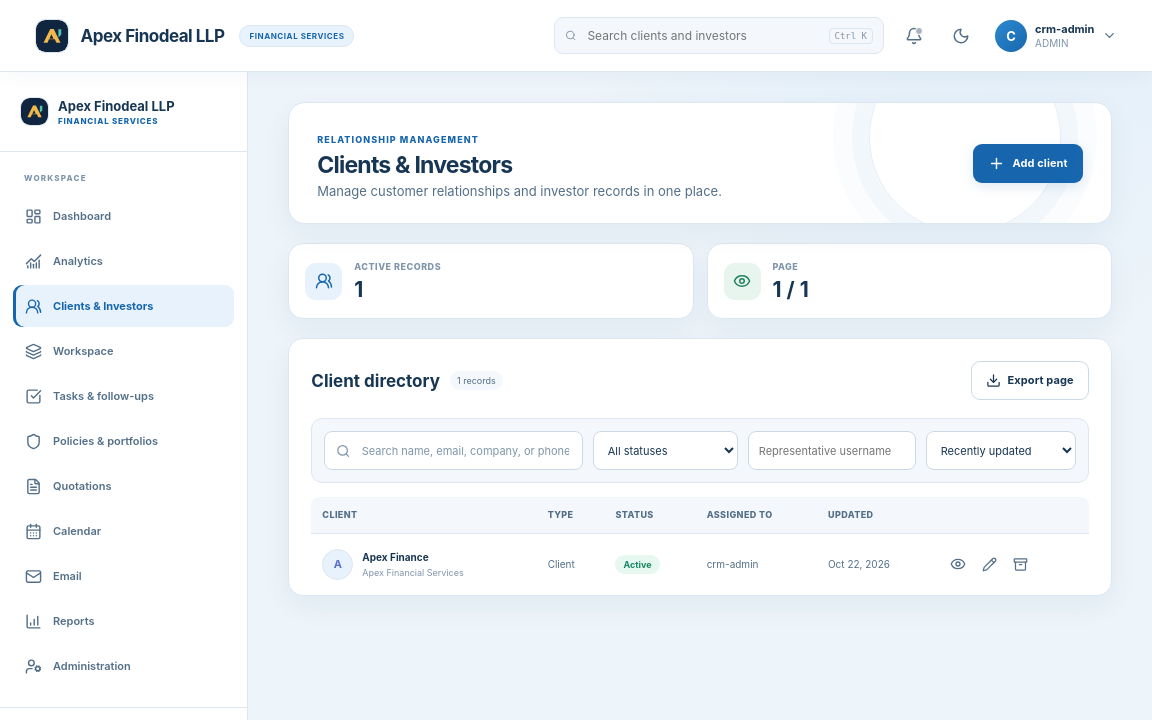
Test: creates a client from the clients page and refreshes the list
This screenshot has width=1152, height=720.
expect the text "Apex Finance" is shown: met, box [362, 551, 429, 563]
Click the button "Add client": (1028, 163) [973, 144, 1083, 182]
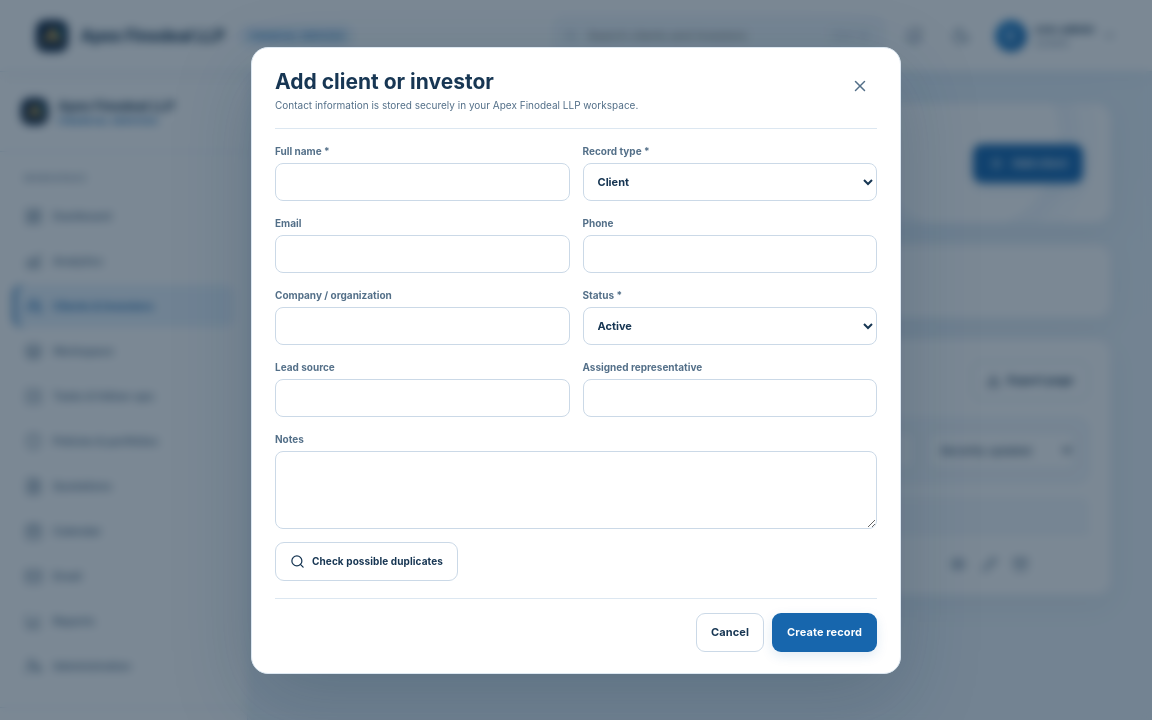
In the field labelled "Full name *": (422, 182) [275, 162, 570, 200], type "Northstar Investor"
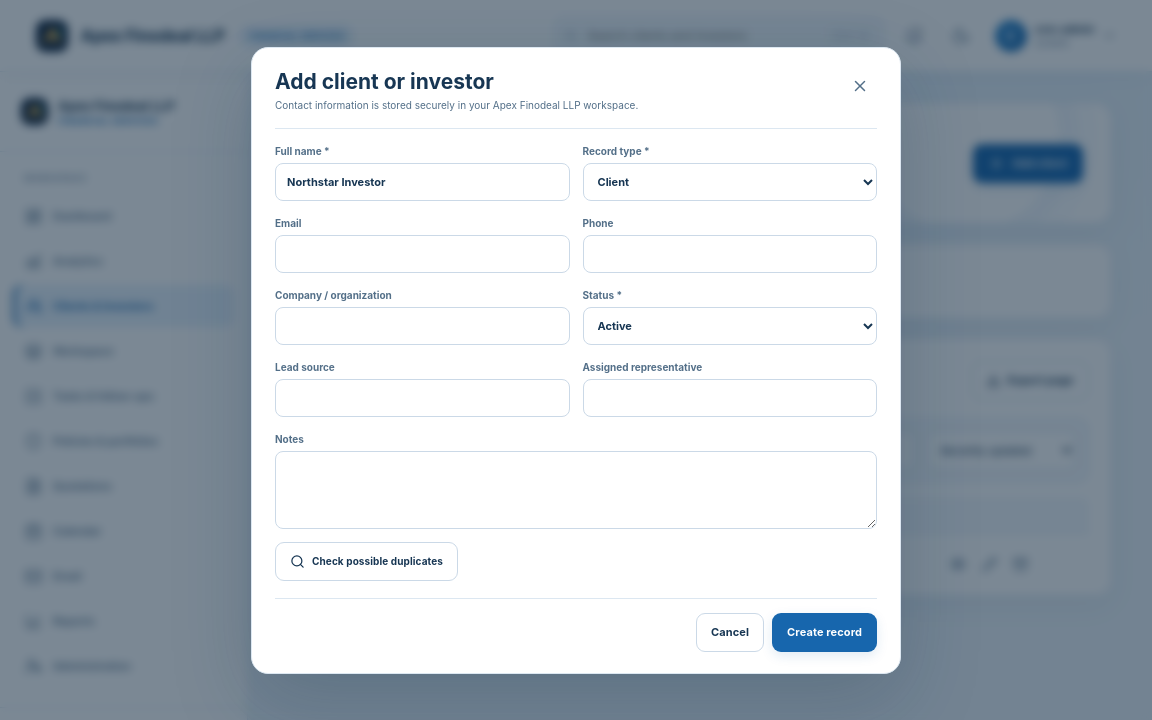
Select "Investor" in the dropdown labelled "Record type *": (730, 182) [582, 162, 877, 200]
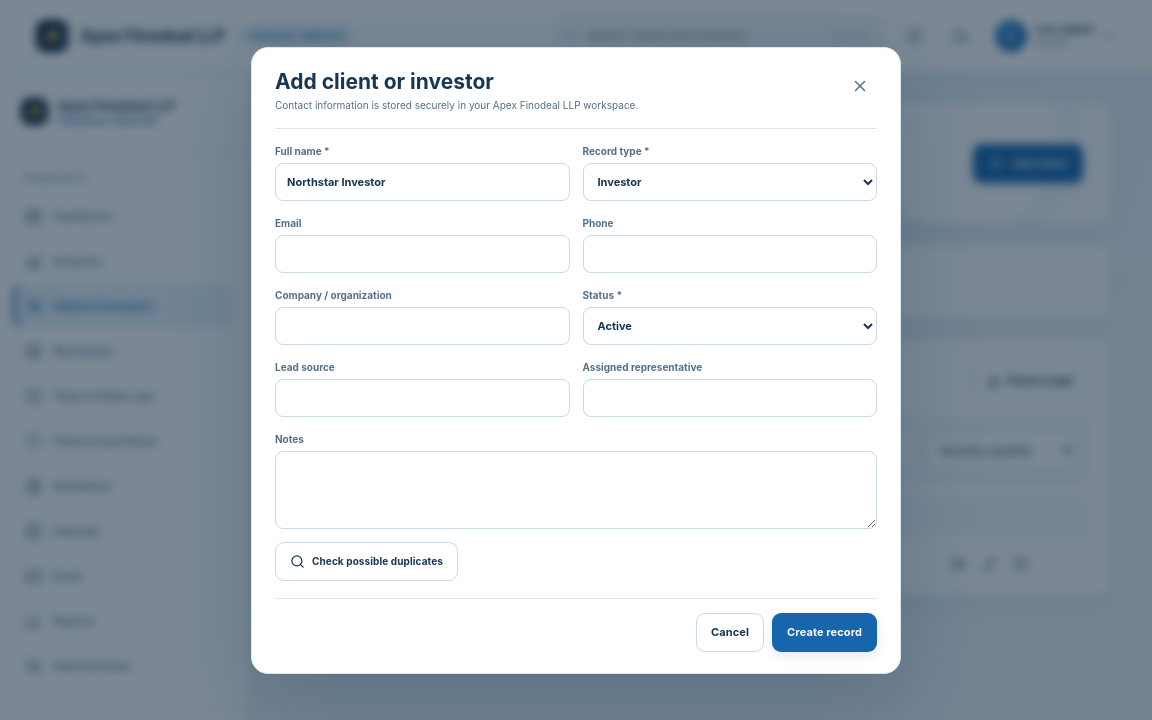
Click the button "Create record": (825, 632) [772, 612, 877, 652]
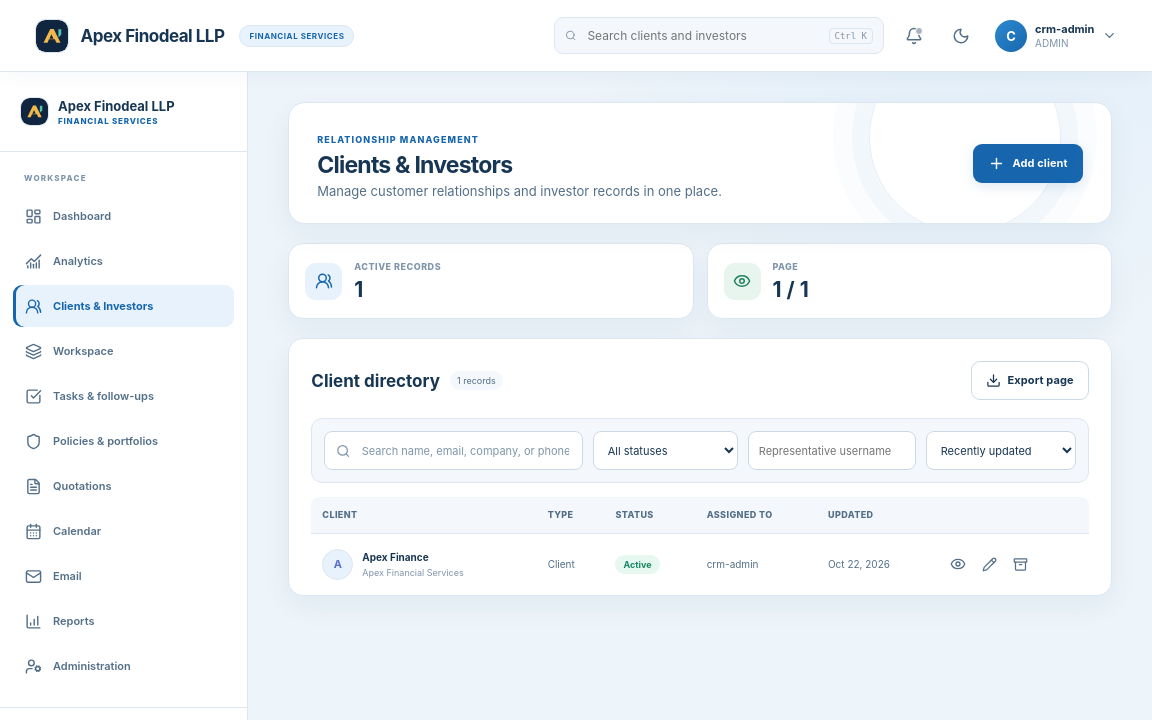
expect the dialog is gone: met
